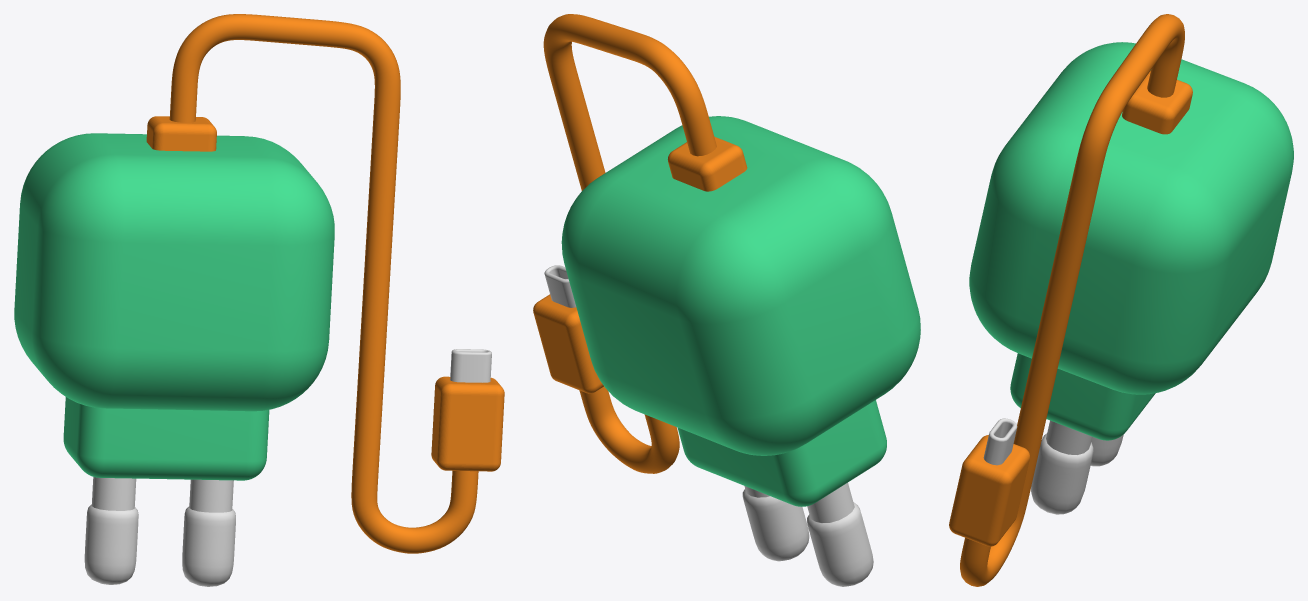
The model's file is charger-3d-icon-1519445805263.glb.
The picture shows the model from 3 angles, left to right: view 1: azimuth 30°, elevation 25°; view 2: azimuth 150°, elevation 25°; view 3: azimuth 270°, elevation 25°; orthographic projection. The views are drawn at different scales.
Parts seen in each view (by area): view 1: Adaptor, Cable, Plug & USB; view 2: Adaptor, Cable, Plug & USB; view 3: Adaptor, Cable, Plug & USB.
Part boxes in pixels (left/top/right/bottom): Adaptor: left=14, top=133, right=334, bottom=480; Cable: left=146, top=14, right=504, bottom=553; Plug & USB: left=84, top=349, right=491, bottom=586; Adaptor: left=561, top=116, right=920, bottom=506; Cable: left=533, top=14, right=747, bottom=473; Plug & USB: left=544, top=265, right=873, bottom=586; Adaptor: left=969, top=42, right=1293, bottom=440; Cable: left=949, top=14, right=1192, bottom=586; Plug & USB: left=983, top=418, right=1123, bottom=514.
Size of the model in its own units: 2.69 by 3.23 by 1.91.
